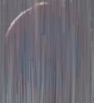No waiting: (7, 4, 84, 91)
